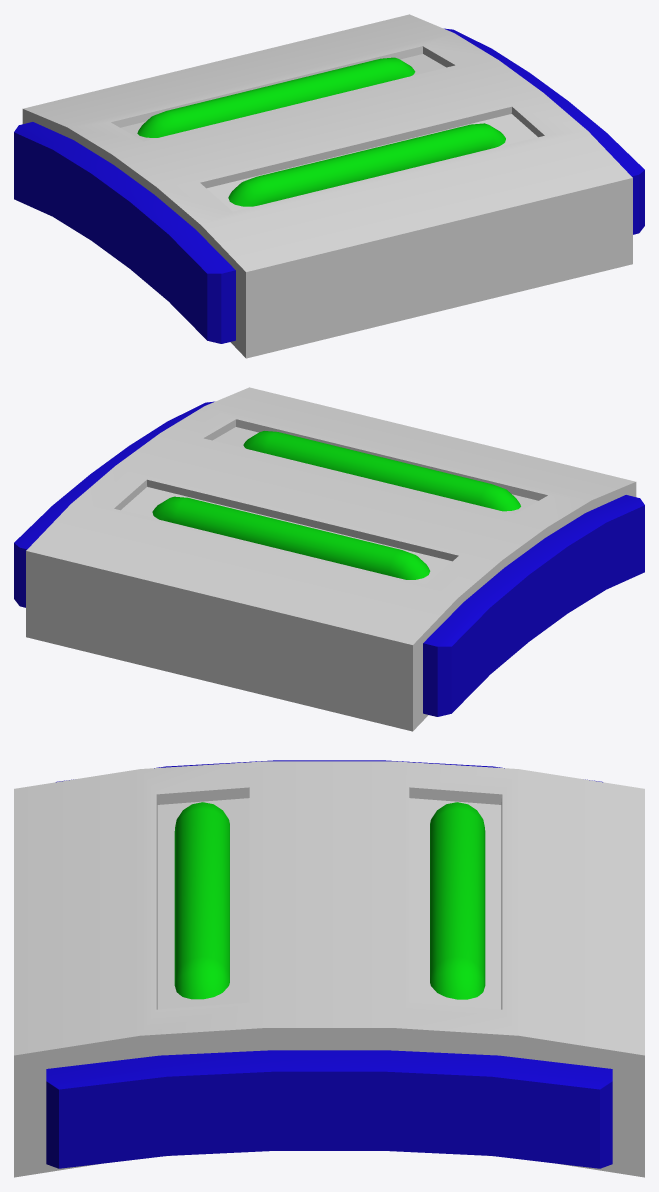
The model's file is shrapnal.fbx.
3 views of the same model, one above another, from view 1: azimuth 30°, elevation 25°; view 2: azimuth 150°, elevation 25°; view 3: azimuth 270°, elevation 25° (orthographic). The views are drawn at different scales.
Visible parts, largest first — view 1: Cube; view 2: Cube; view 3: Cube.
Boxes of the visible parts, bbox=[...] form: Cube: bbox=[14, 14, 644, 358]; Cube: bbox=[14, 387, 644, 731]; Cube: bbox=[14, 760, 644, 1177].
Bounding box in the file's own units: 227 × 55.19 × 200.
